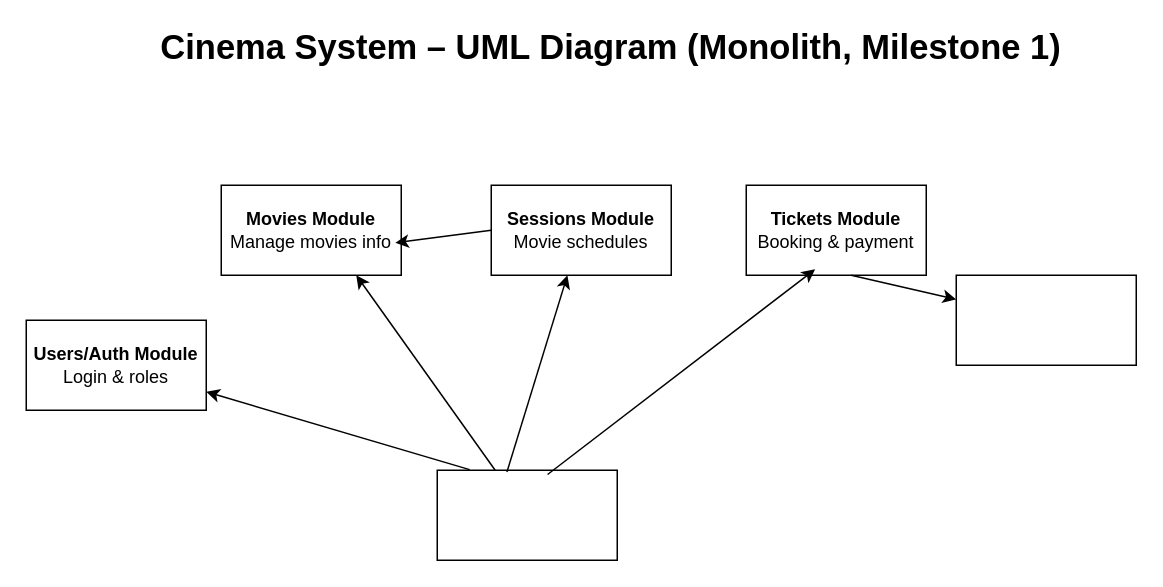
Image size: 1163x587. Some labels were removed from this diagram. Each missing label, with the centre of its shape:
API (HTTP Handlers) REST endpoints: the point at 526,514
Seats/Halls Module Seat availability: the point at 1045,319
